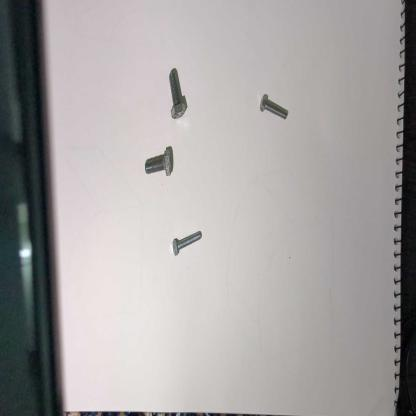Bolts: (140, 142, 176, 184), (166, 67, 188, 120), (259, 89, 289, 126), (170, 228, 204, 258)
